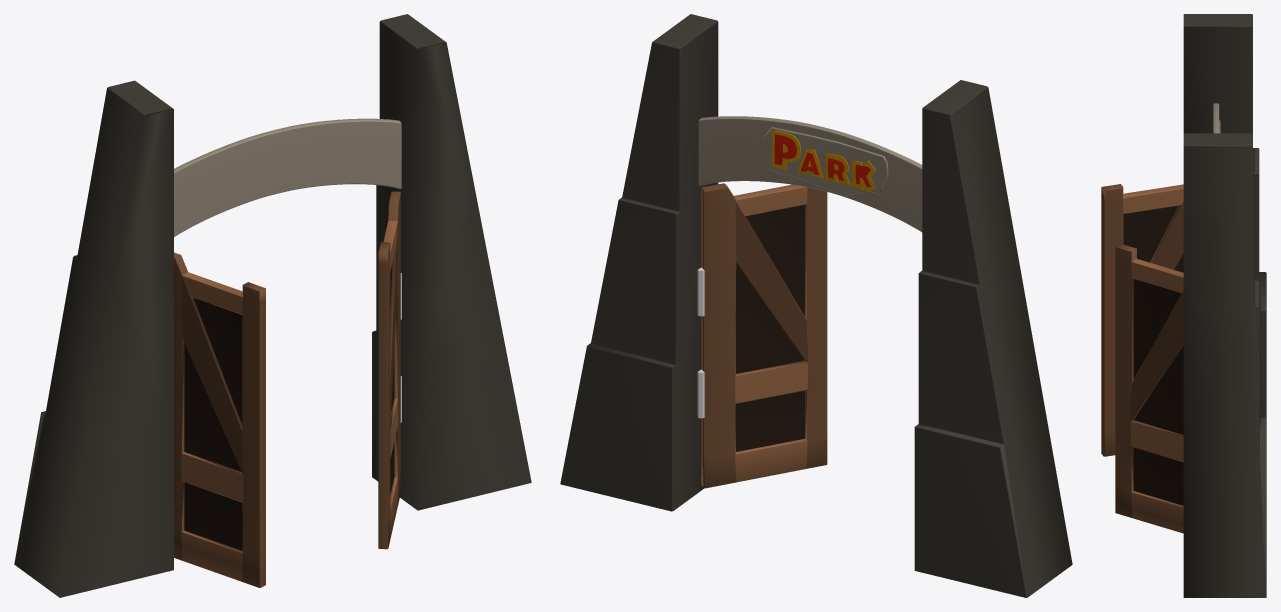
Rendered from ETC0210007.fbx.
3 renders of one model, left to right at view 1: azimuth 30°, elevation 25°; view 2: azimuth 150°, elevation 25°; view 3: azimuth 270°, elevation 25°, orthographic. The views are drawn at different scales.
Parts seen in each view (by area): view 1: smETC0210007; view 2: smETC0210007; view 3: smETC0210007.
Boxes of the visible parts, box(x1,y1,x2,y2) form: smETC0210007: box(14, 14, 531, 597); smETC0210007: box(560, 14, 1072, 597); smETC0210007: box(1101, 14, 1266, 597).
Bounding box in the file's own units: 725 × 678 × 245.
